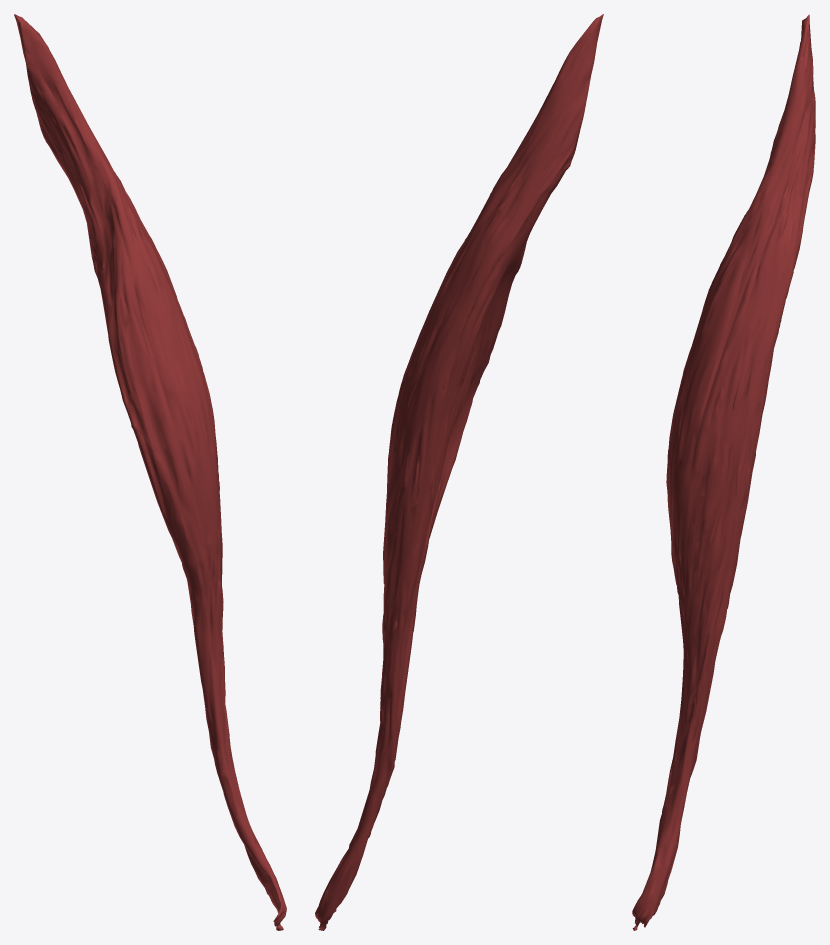
The model's file is brachioradialis-muscle-l.glb.
3 renders of one model, left to right at view 1: azimuth 30°, elevation 25°; view 2: azimuth 210°, elevation 25°; view 3: azimuth 270°, elevation 25°, orthographic. The views are drawn at different scales.
Visible parts, largest first — view 1: Brachioradialis muscle.l; view 2: Brachioradialis muscle.l; view 3: Brachioradialis muscle.l.
Part boxes in pixels (bbox=[...]): Brachioradialis muscle.l: bbox=[14, 14, 286, 930]; Brachioradialis muscle.l: bbox=[315, 14, 603, 930]; Brachioradialis muscle.l: bbox=[632, 14, 815, 930].
Bounding box in the file's own units: 0.0748 × 0.3491 × 0.0693.
